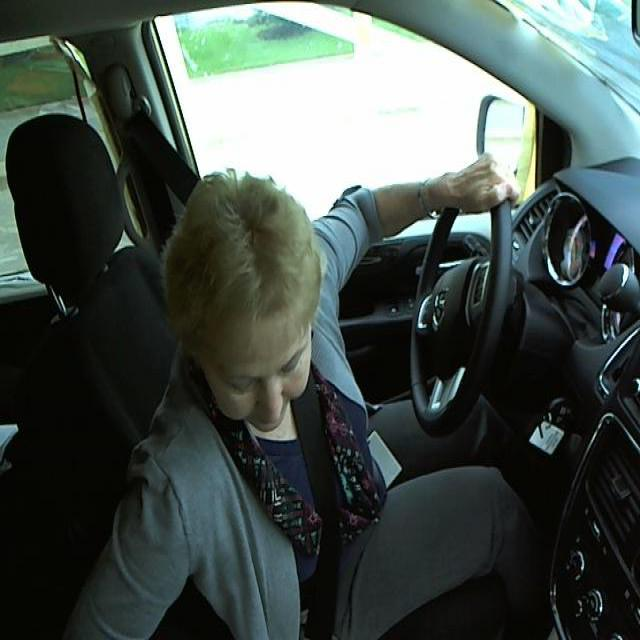seatbelt: (290, 397, 352, 604)
